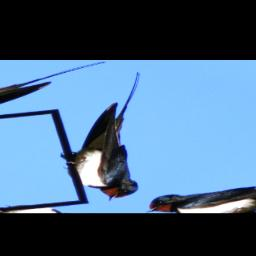Swallow: (0, 70, 256, 205)
